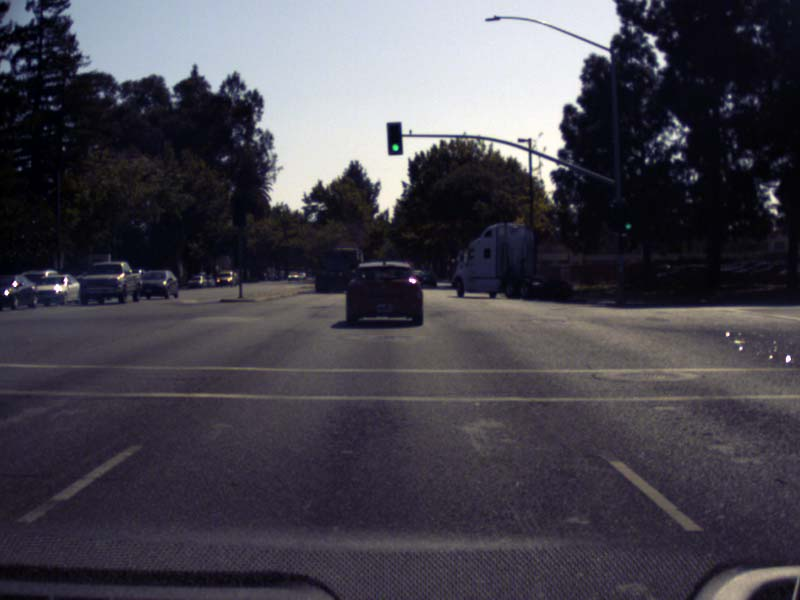Green: (614, 202, 635, 234), (387, 121, 401, 156)
